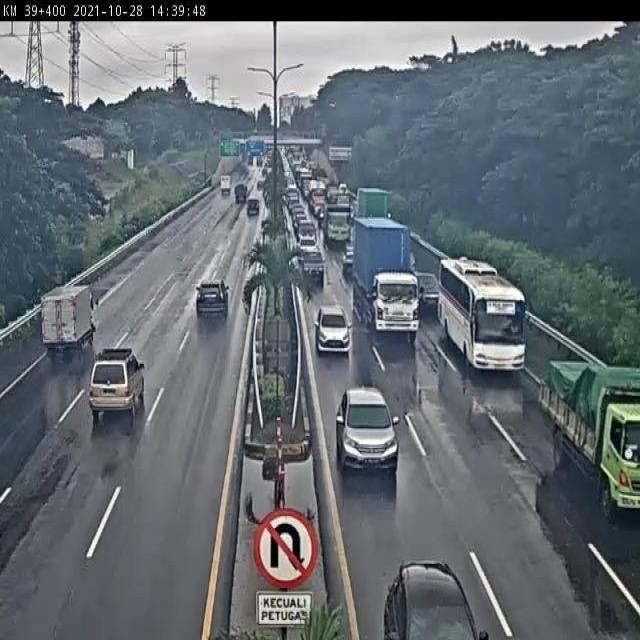big bus: (434, 245, 531, 384)
big truck: (346, 210, 422, 342), (353, 181, 390, 224)
car: (377, 546, 489, 640), (331, 374, 404, 482), (85, 340, 150, 425), (312, 301, 357, 360), (191, 273, 233, 324), (412, 265, 443, 311), (301, 252, 327, 285), (297, 234, 319, 258), (297, 218, 319, 238), (233, 181, 249, 208), (245, 196, 261, 220), (253, 177, 268, 195)
mid truck: (538, 350, 640, 530), (321, 201, 355, 248)
small truck: (36, 277, 101, 364), (217, 169, 235, 199)
